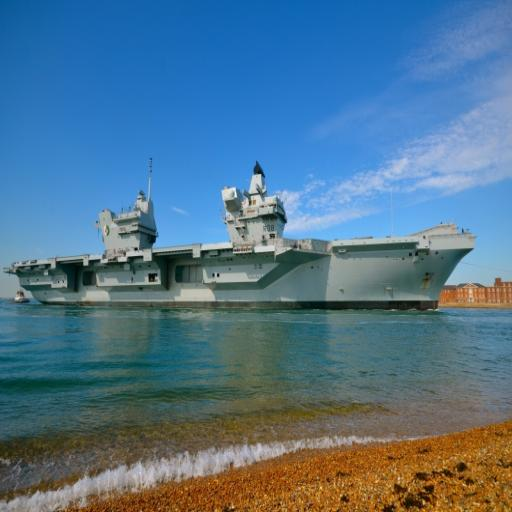Portanaves: (8, 147, 481, 318)
